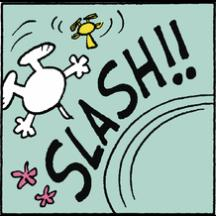snoopy: (0, 40, 92, 138)
